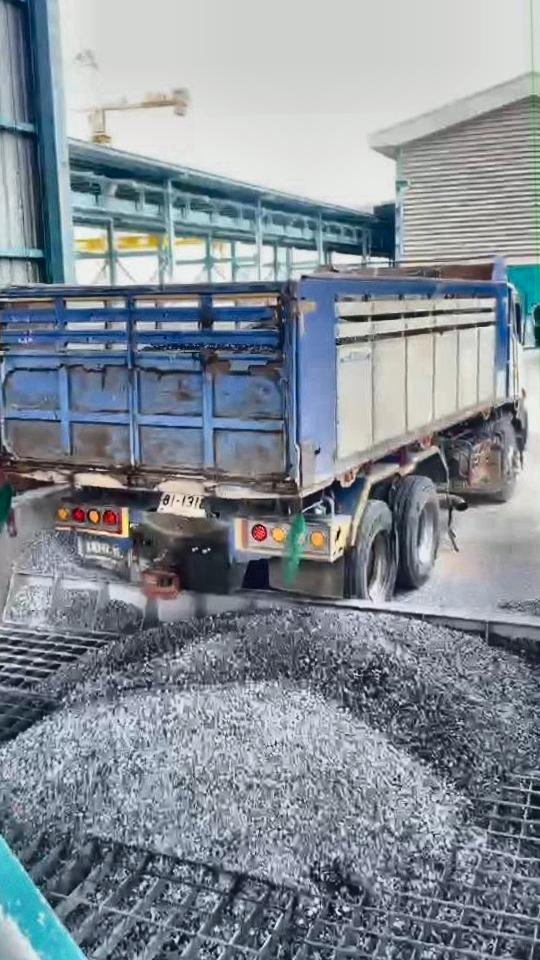gravel: (0, 608, 540, 889), (2, 532, 145, 635)
